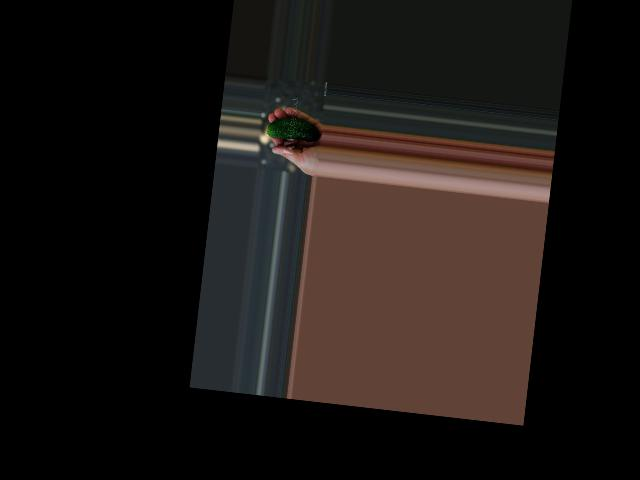cucumber: (267, 114, 320, 142)
